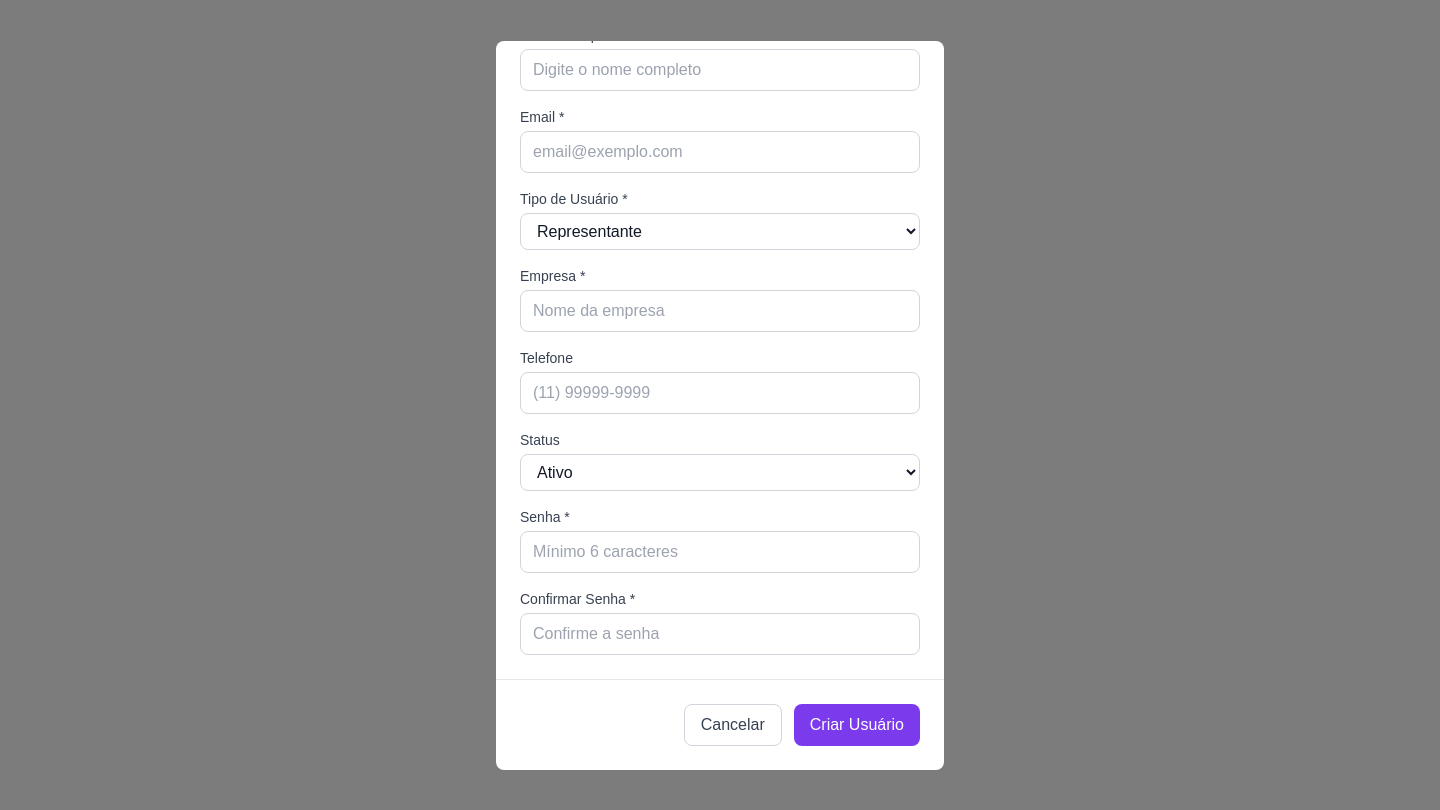
Test case: ModalUsuario › valida campos obrigatórios
(page scrolled)
Click the button "Criar Usuário" at (857, 724), box top-left (794, 704), bottom-right (920, 746)
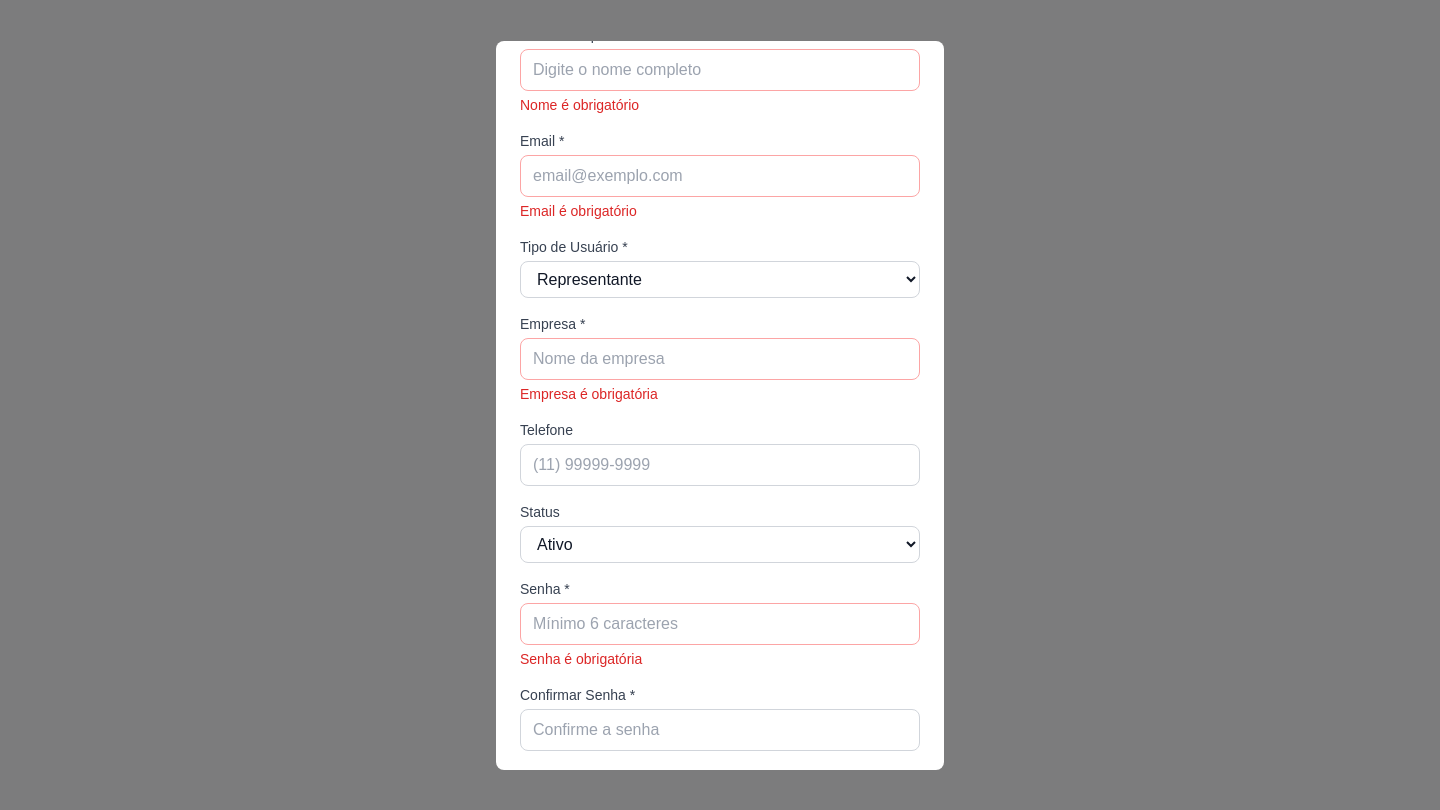
Check: the text "Nome é obrigatório" is shown, box top-left (520, 96), bottom-right (639, 112)
Check: the text "Email é obrigatório" is shown, box top-left (520, 202), bottom-right (637, 218)
Check: the text "Empresa é obrigatória" is shown, box top-left (520, 386), bottom-right (658, 402)
